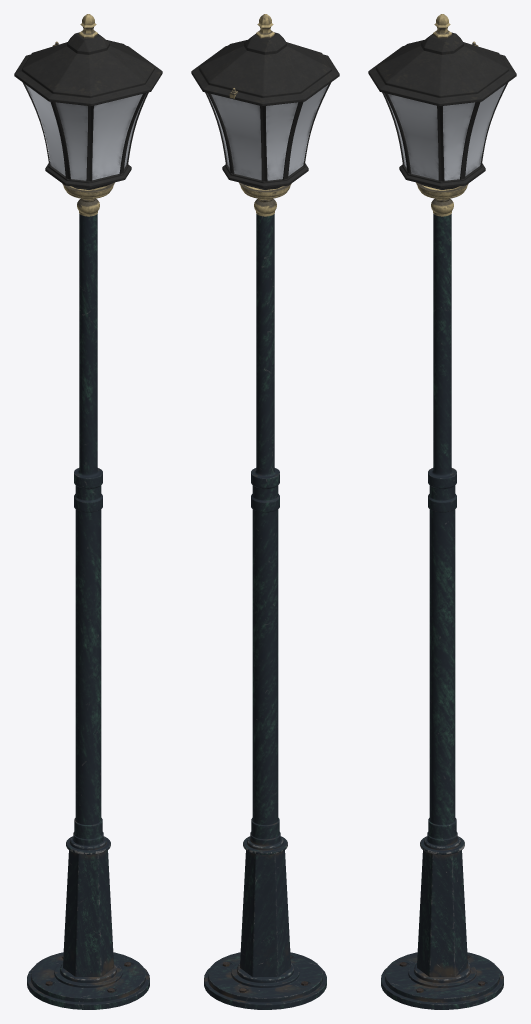
File: Street_Lamp_7.fbx
3 renders of one model, left to right at view 1: azimuth 30°, elevation 25°; view 2: azimuth 150°, elevation 25°; view 3: azimuth 330°, elevation 25°, orthographic.
Visible parts, largest first — view 1: StrLmp7_Post, StrLmp7_Lamp_1.4, StrLmp7_Lamp_1.3, StrLmp7_Lamp_1.2, StrLmp7_Stand, StrLmp7_Lamp_1.1; view 2: StrLmp7_Post, StrLmp7_Lamp_1.4, StrLmp7_Lamp_1.3, StrLmp7_Lamp_1.2, StrLmp7_Stand, StrLmp7_Lamp_1.1; view 3: StrLmp7_Post, StrLmp7_Lamp_1.4, StrLmp7_Lamp_1.3, StrLmp7_Lamp_1.2, StrLmp7_Stand, StrLmp7_Lamp_1.1.
Boxes of the visible parts, x1,y1,x2,y2 form: StrLmp7_Post: (27,214,149,1009); StrLmp7_Lamp_1.4: (14,14,162,106); StrLmp7_Lamp_1.3: (25,84,146,180); StrLmp7_Lamp_1.2: (22,82,148,181); StrLmp7_Stand: (62,182,114,216); StrLmp7_Lamp_1.1: (45,162,131,189); StrLmp7_Post: (204,214,326,1009); StrLmp7_Lamp_1.4: (191,14,339,106); StrLmp7_Lamp_1.3: (209,84,328,180); StrLmp7_Lamp_1.2: (205,82,331,181); StrLmp7_Stand: (239,182,291,216); StrLmp7_Lamp_1.1: (222,163,308,189); StrLmp7_Post: (381,214,503,1009); StrLmp7_Lamp_1.4: (368,14,516,106); StrLmp7_Lamp_1.3: (386,84,505,180); StrLmp7_Lamp_1.2: (382,82,508,181); StrLmp7_Stand: (416,182,468,216); StrLmp7_Lamp_1.1: (399,163,485,189).
Size of the model in its own units: 28.6 by 232 by 28.79.
